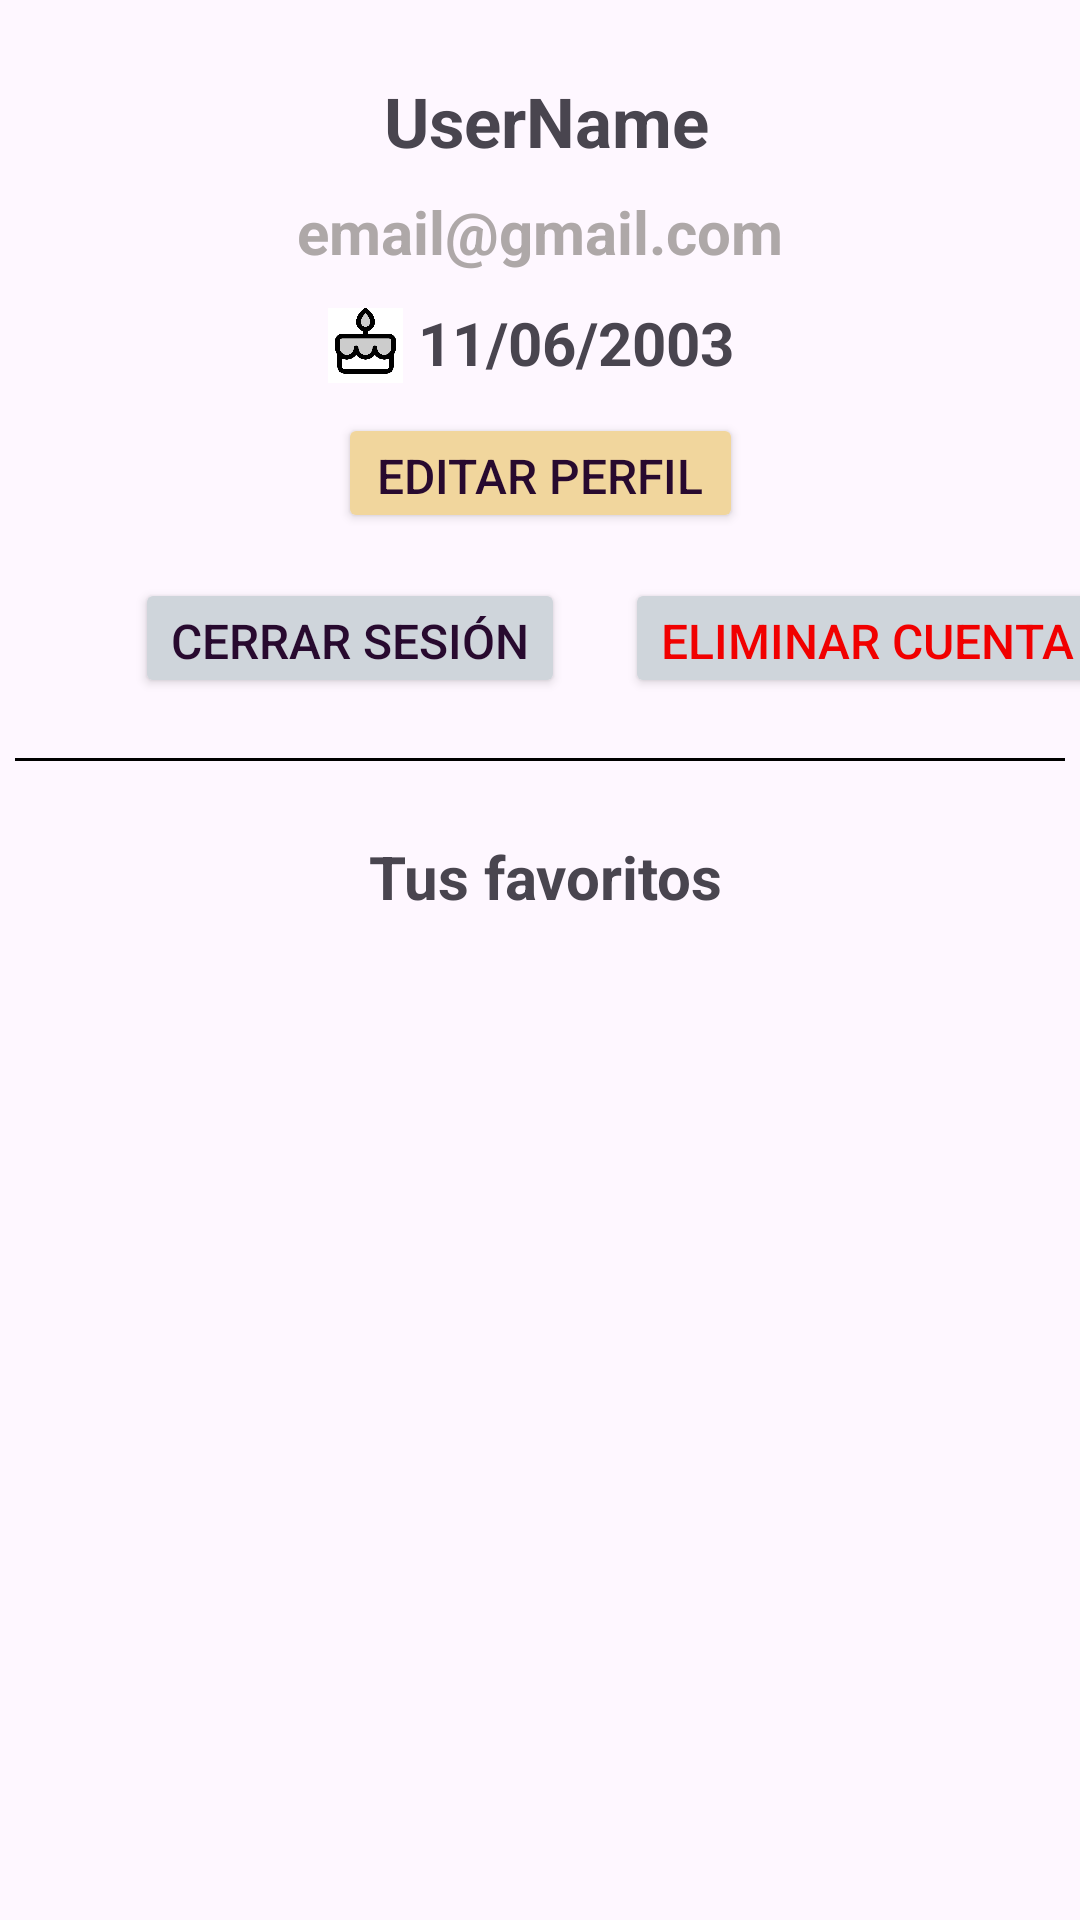

Where to tap for icons on this 1080x1920 app screen, as point (x, y):
birthdate: point (365, 341)
